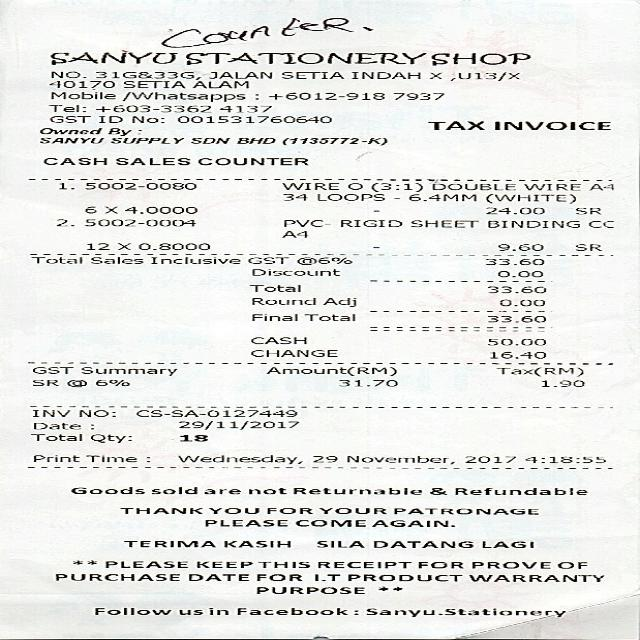text: (184, 53, 418, 64), (365, 607, 564, 616), (48, 51, 174, 63), (119, 90, 243, 101), (265, 366, 396, 375), (175, 454, 299, 463), (176, 419, 296, 428), (174, 115, 328, 122), (490, 120, 608, 129), (436, 53, 526, 64), (133, 410, 295, 416), (346, 454, 453, 463), (467, 574, 602, 581), (289, 487, 420, 494), (453, 487, 584, 494), (483, 192, 573, 202), (494, 366, 583, 376), (195, 156, 305, 164), (78, 365, 174, 374), (391, 507, 534, 513), (84, 218, 191, 226), (280, 136, 384, 144), (93, 71, 196, 79), (82, 182, 195, 189), (347, 573, 460, 580), (236, 607, 344, 614), (266, 92, 382, 98), (93, 104, 209, 110), (431, 182, 516, 190), (316, 560, 408, 567), (255, 586, 361, 592), (149, 256, 238, 263), (449, 71, 518, 80), (250, 268, 338, 275), (54, 574, 177, 579), (249, 349, 335, 356), (371, 540, 471, 546), (368, 519, 452, 526), (115, 156, 188, 164), (522, 455, 603, 462), (203, 518, 284, 525), (105, 560, 186, 567), (348, 70, 418, 78), (137, 242, 207, 250), (468, 561, 548, 568), (486, 220, 578, 226), (122, 540, 214, 546), (91, 607, 169, 614), (316, 192, 382, 200), (68, 486, 142, 493), (121, 205, 194, 212), (369, 181, 420, 191), (49, 90, 112, 98), (38, 126, 100, 134), (42, 156, 104, 164), (426, 120, 481, 129), (407, 220, 477, 227), (339, 218, 400, 226), (119, 507, 200, 513), (406, 193, 474, 200), (521, 182, 580, 190), (484, 206, 543, 214), (189, 80, 247, 88), (46, 80, 112, 87), (487, 314, 544, 322), (250, 297, 313, 304), (108, 137, 181, 143), (291, 519, 363, 525), (121, 80, 182, 87), (483, 257, 544, 264), (336, 379, 395, 386), (220, 540, 288, 546), (280, 181, 337, 188), (36, 136, 102, 142), (318, 507, 384, 513), (248, 336, 303, 343), (487, 350, 542, 357), (206, 71, 269, 77), (89, 256, 143, 263), (281, 218, 328, 226), (30, 256, 83, 263), (280, 71, 341, 77), (485, 286, 546, 292), (30, 422, 91, 428), (296, 257, 348, 264), (499, 298, 544, 306), (218, 105, 269, 112), (29, 434, 80, 441), (150, 486, 194, 494), (198, 560, 248, 567), (248, 284, 297, 291), (485, 338, 542, 344), (302, 313, 350, 320), (31, 454, 78, 461), (88, 433, 128, 441), (497, 270, 542, 277), (249, 313, 294, 320), (417, 561, 462, 568), (538, 379, 582, 386), (462, 456, 513, 462), (185, 574, 246, 579), (255, 573, 298, 580), (206, 507, 256, 513), (480, 540, 530, 546), (320, 296, 352, 305), (247, 256, 288, 263), (314, 540, 361, 546), (49, 115, 89, 122), (30, 366, 70, 373), (75, 409, 115, 416), (92, 454, 132, 461), (260, 560, 306, 566), (495, 243, 540, 249), (265, 507, 309, 513), (30, 409, 66, 416), (391, 93, 441, 98), (233, 137, 272, 143), (130, 115, 163, 122), (190, 137, 227, 143), (46, 104, 82, 110), (587, 182, 612, 190), (575, 206, 600, 214), (309, 454, 334, 462), (51, 71, 84, 77), (555, 561, 583, 568), (106, 127, 130, 135), (280, 192, 304, 200), (93, 378, 125, 384), (246, 488, 283, 493), (313, 573, 338, 580), (202, 488, 236, 493), (97, 115, 121, 122), (176, 434, 204, 440), (85, 242, 107, 249), (587, 220, 612, 226), (575, 243, 600, 249), (31, 378, 56, 384), (63, 379, 84, 386), (176, 608, 200, 614), (54, 218, 71, 226), (279, 231, 305, 236), (207, 607, 225, 614), (427, 487, 444, 494), (57, 181, 73, 188), (346, 182, 360, 189), (102, 205, 115, 212), (425, 72, 439, 78), (116, 242, 128, 249), (83, 205, 93, 212)
